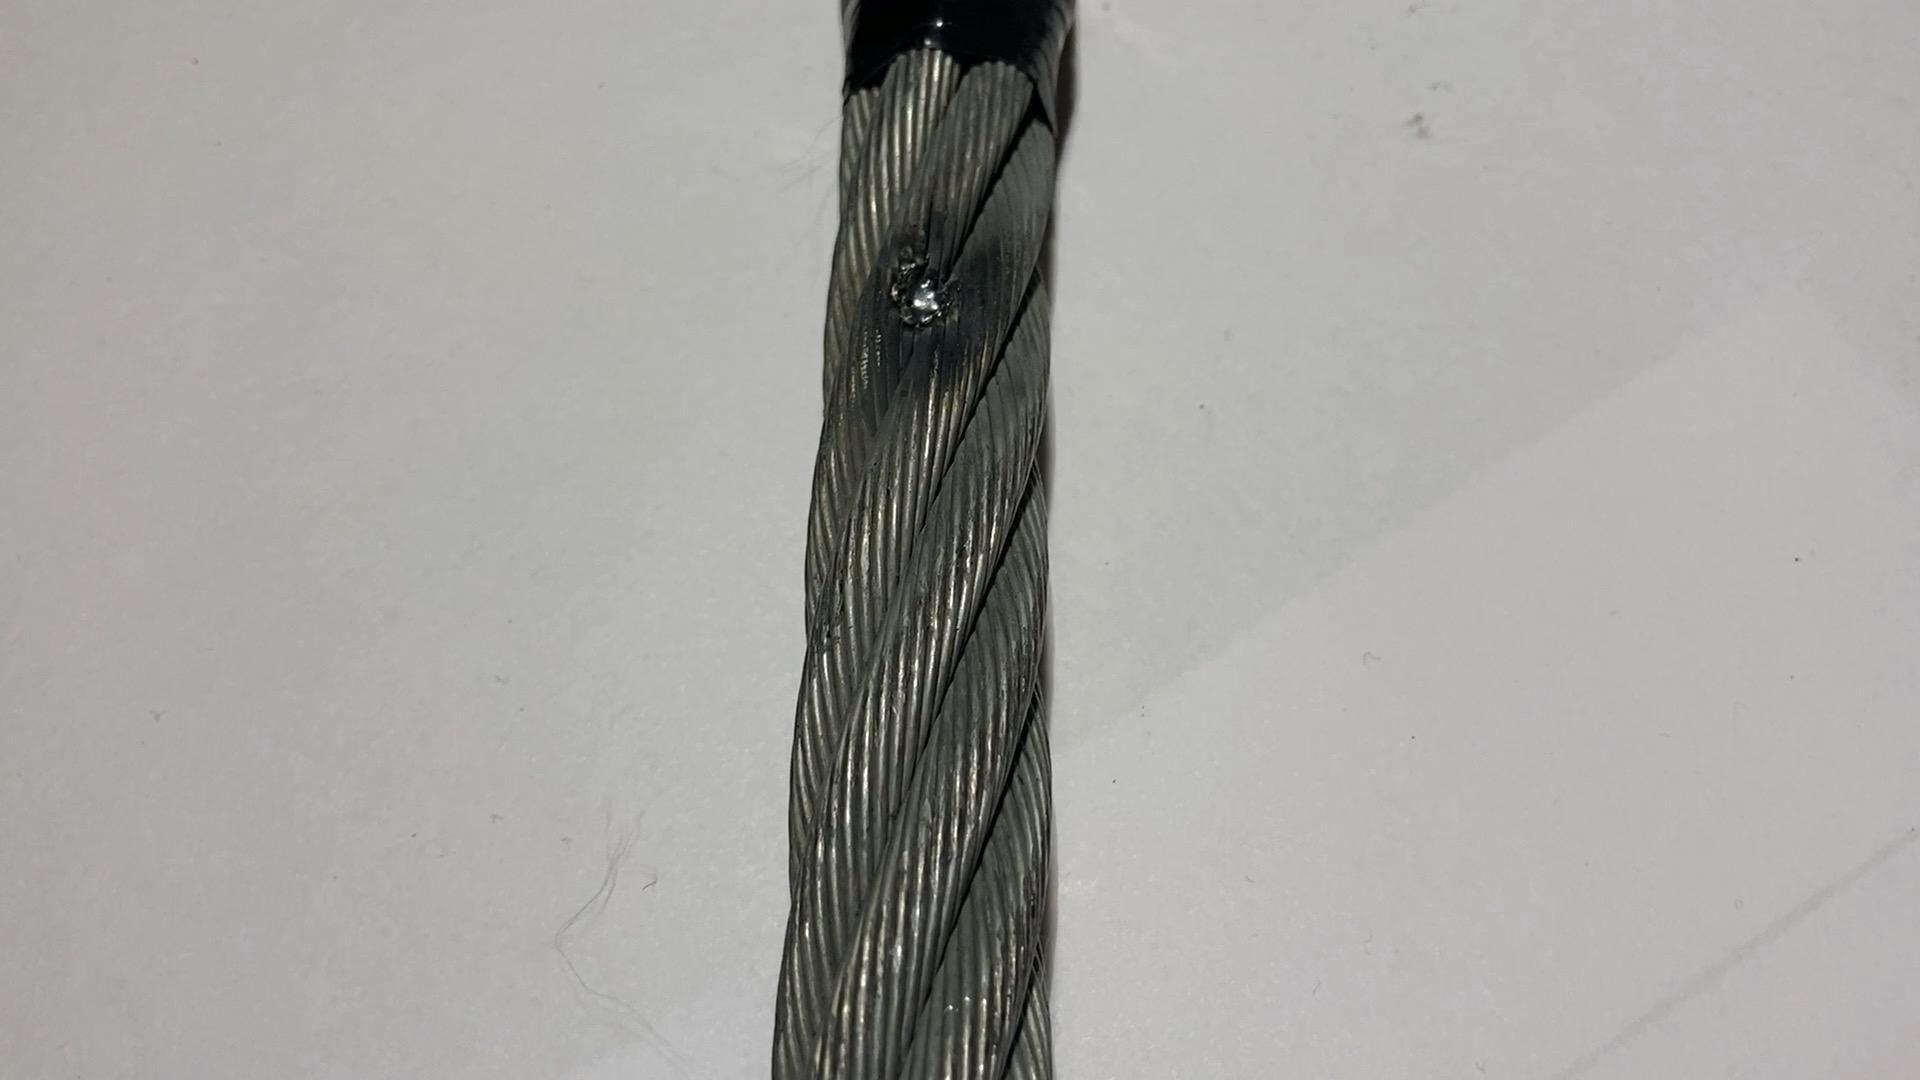thunderbolt: (868, 227, 1021, 367)
